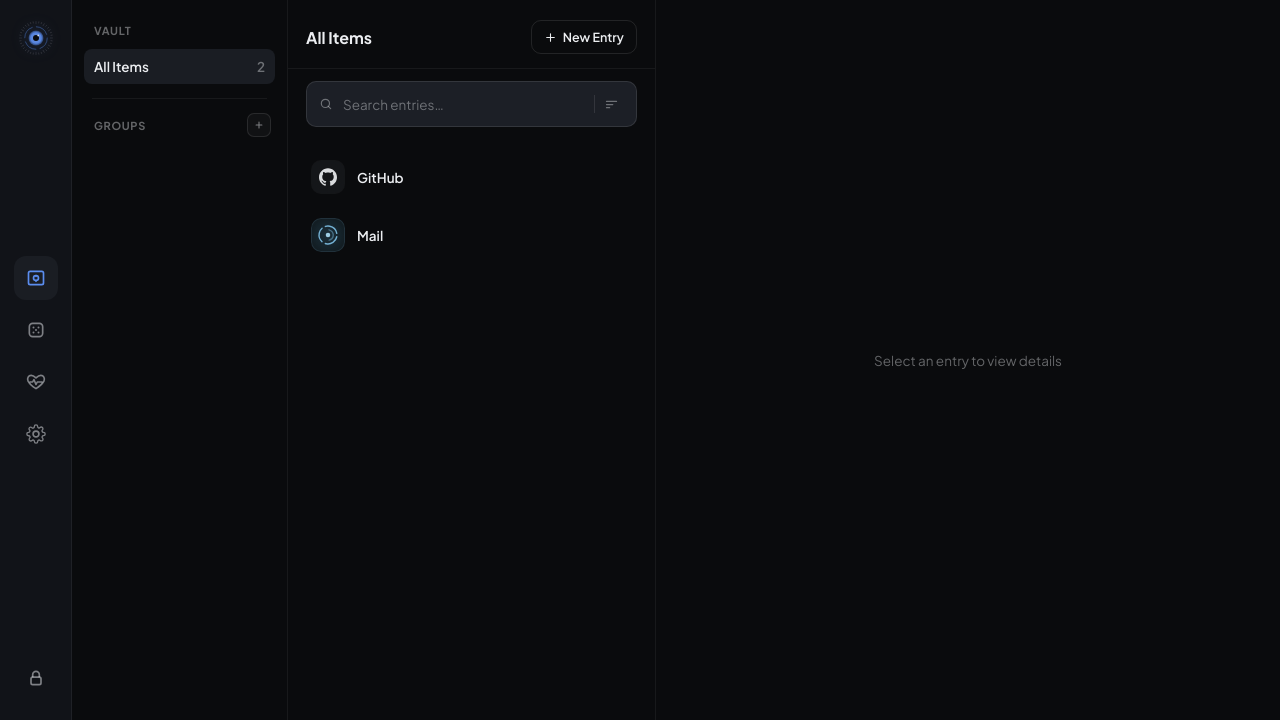
Scenario: VaultShell › Ctrl+F › focuses the search box and selects what's in it, so typing replaces the old query
Type "old" into the field labelled "Search entries". click: (466, 104)
box: [341, 94, 590, 114]
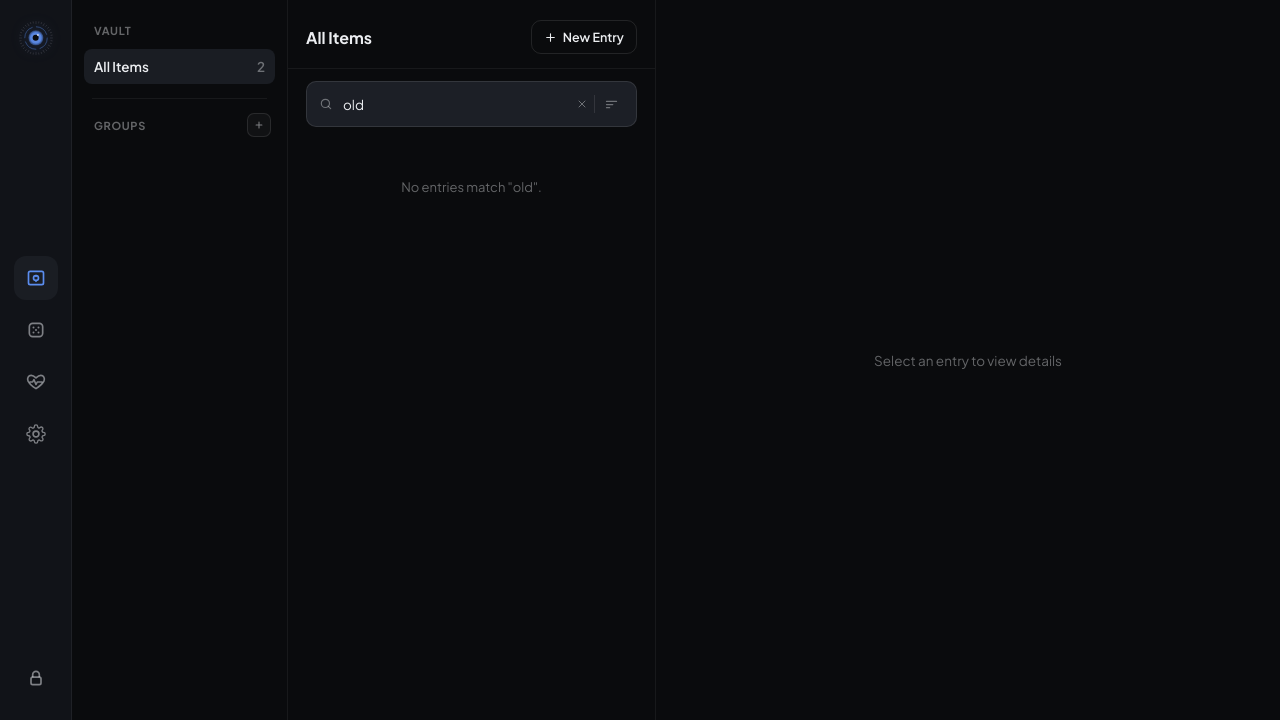
Type keys "{Control>}f{/Control}"
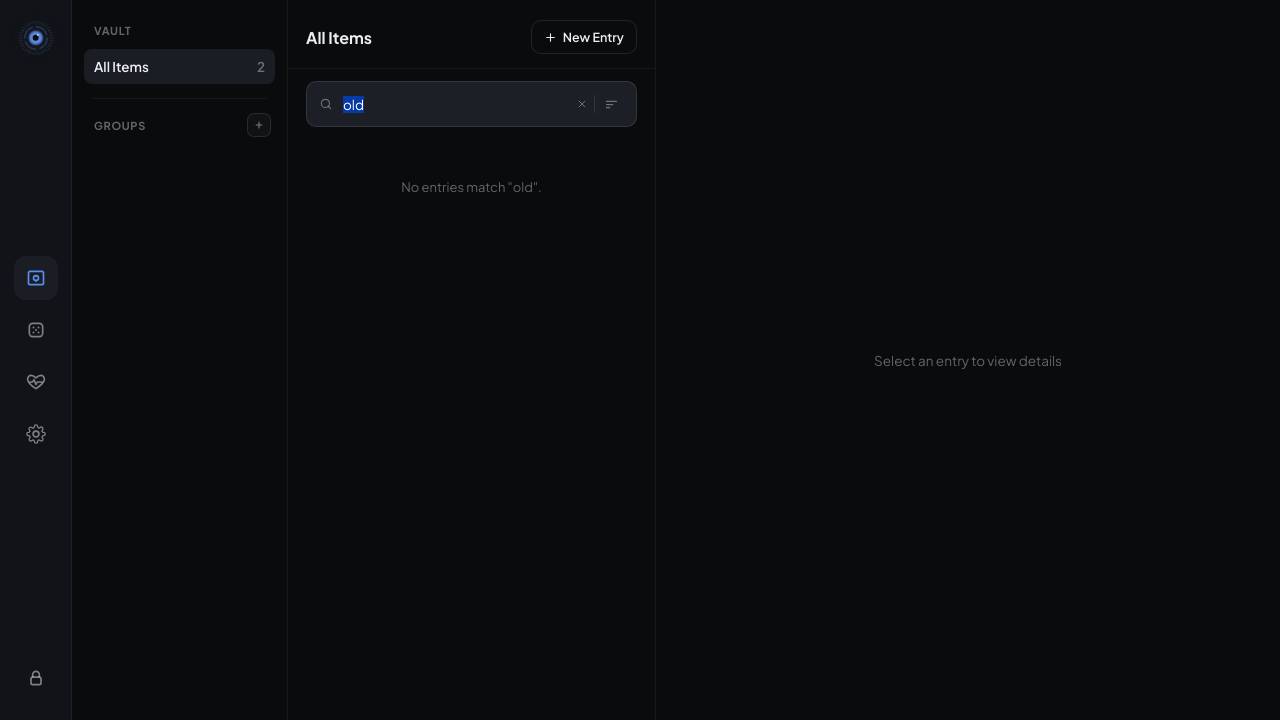
Type keys "mail"
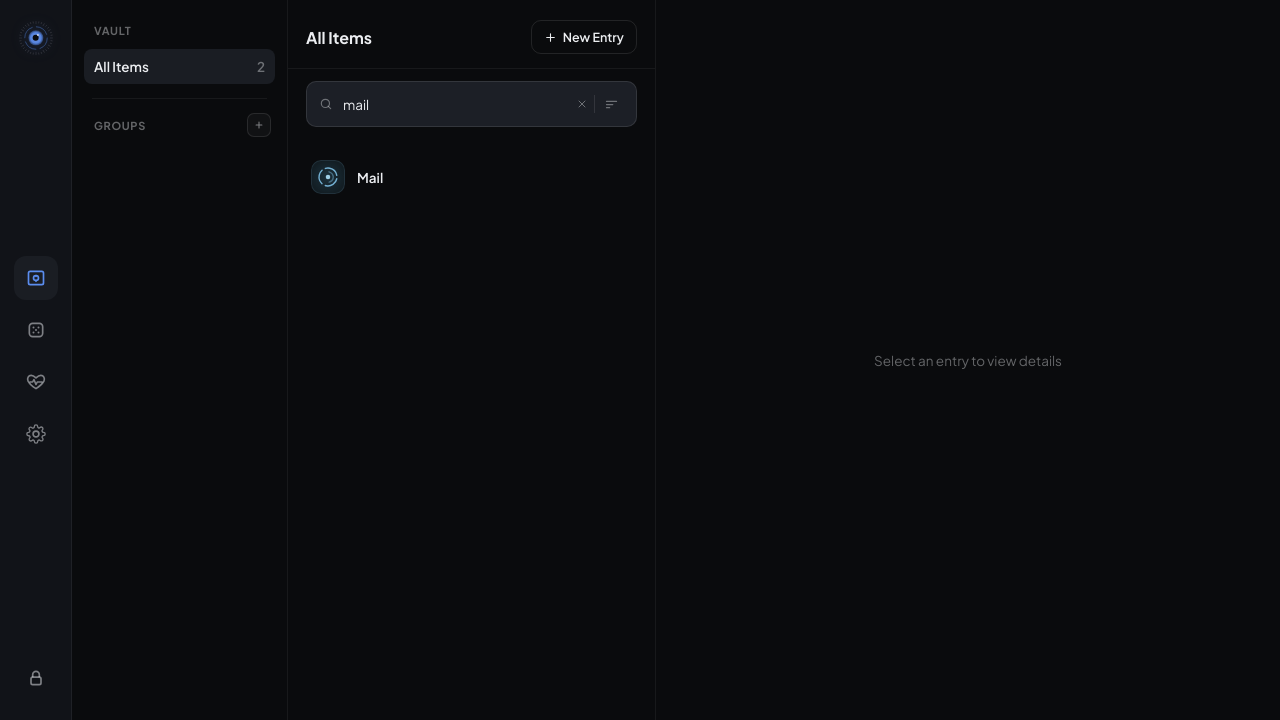
expect the button "GitHub" is not shown: met
expect the field named "Search entries" holds "mail": met, box [341, 94, 566, 114]
expect the text "Mail" is shown: met, box [357, 168, 383, 186]
